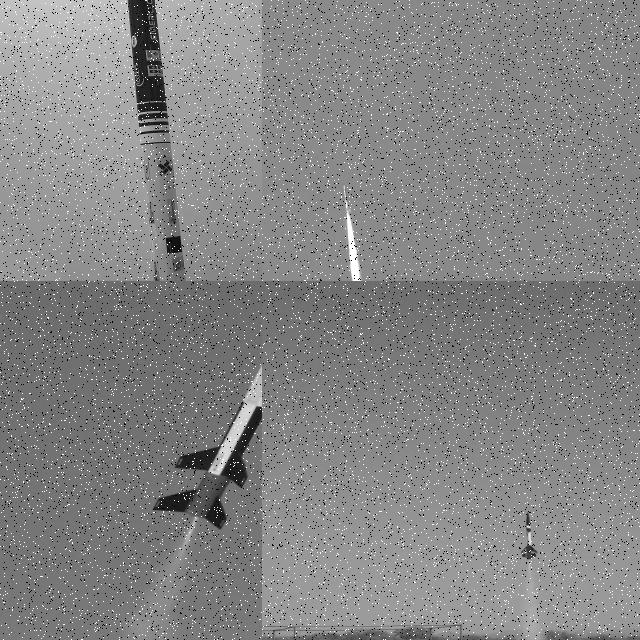Rocket: (152, 302, 262, 531), (127, 0, 186, 281), (521, 512, 539, 561), (343, 182, 351, 215)
